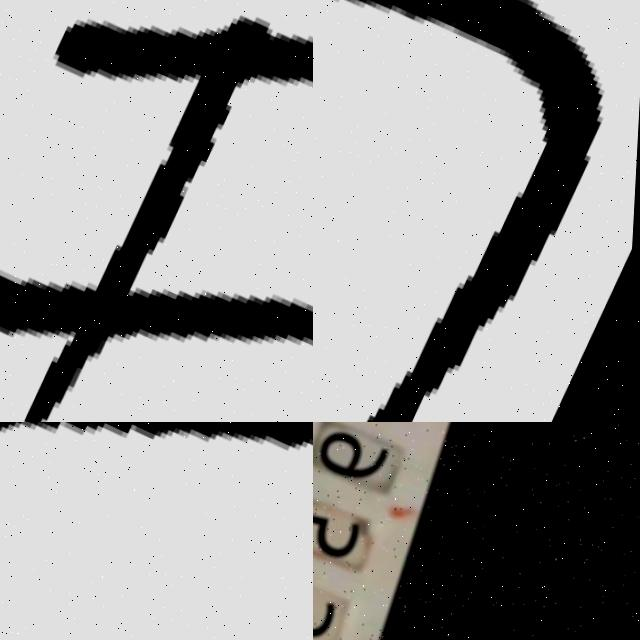5: (313, 465, 393, 583), (313, 544, 368, 640)
9: (313, 422, 419, 507)
H: (0, 12, 313, 422)
L: (313, 0, 633, 422)
